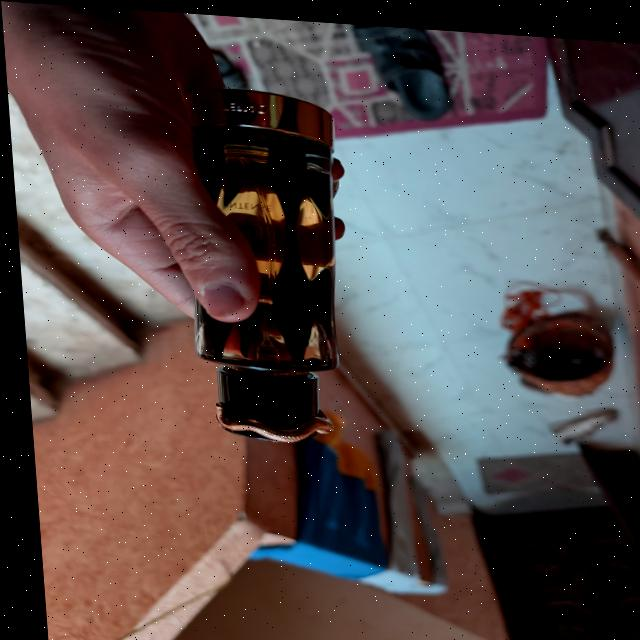Teriaq-Intense: (170, 79, 354, 445)
